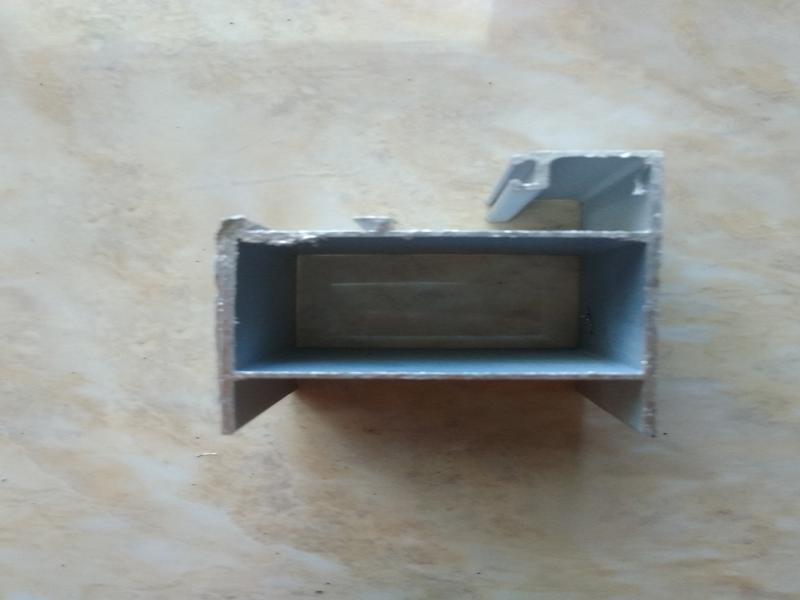Aluminium_2: (191, 114, 688, 486)
